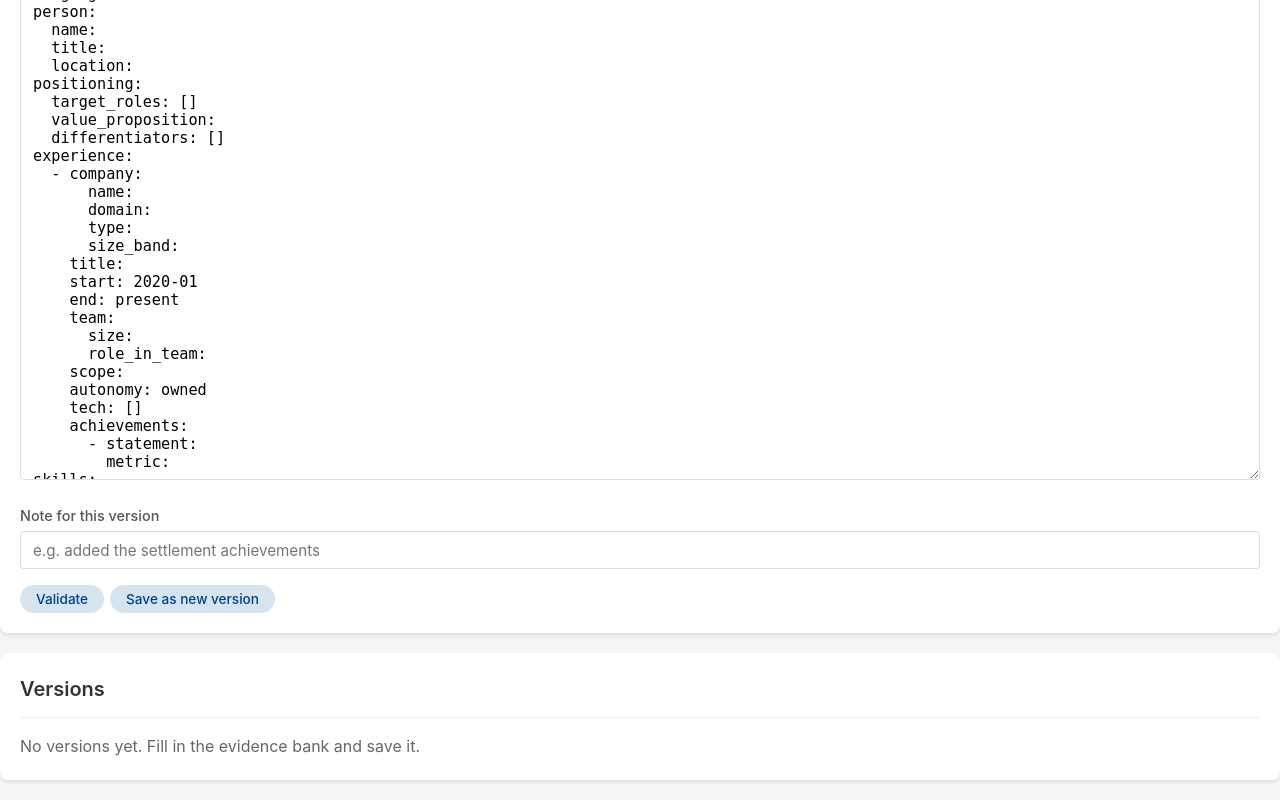
Test case: MasiCv › validates and shows every schema problem with its path
(page scrolled)
Click the button "Validate": x=62, y=599 [20, 585, 104, 613]
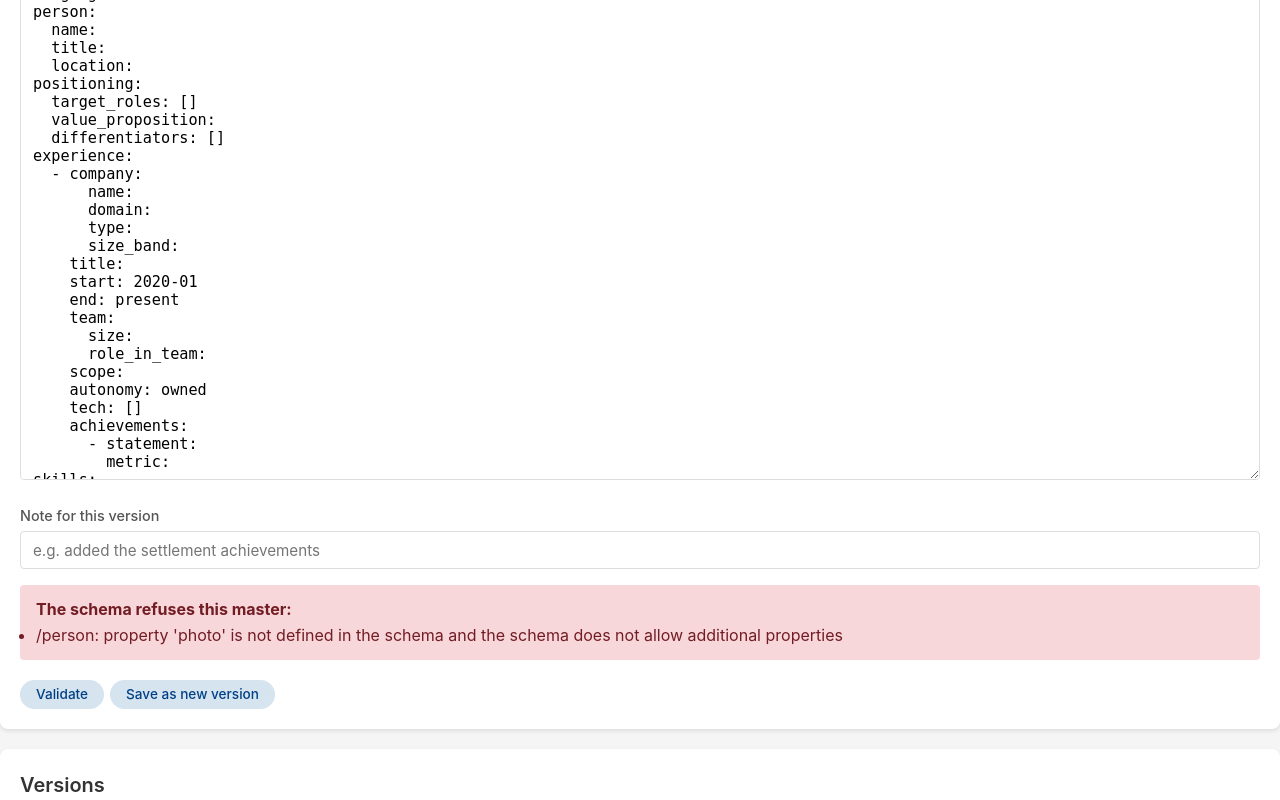
Expected: the message shows "/person: property 'photo' is not defined", [36, 625, 843, 645]
Click the button "Validate": x=62, y=694 [20, 680, 104, 709]
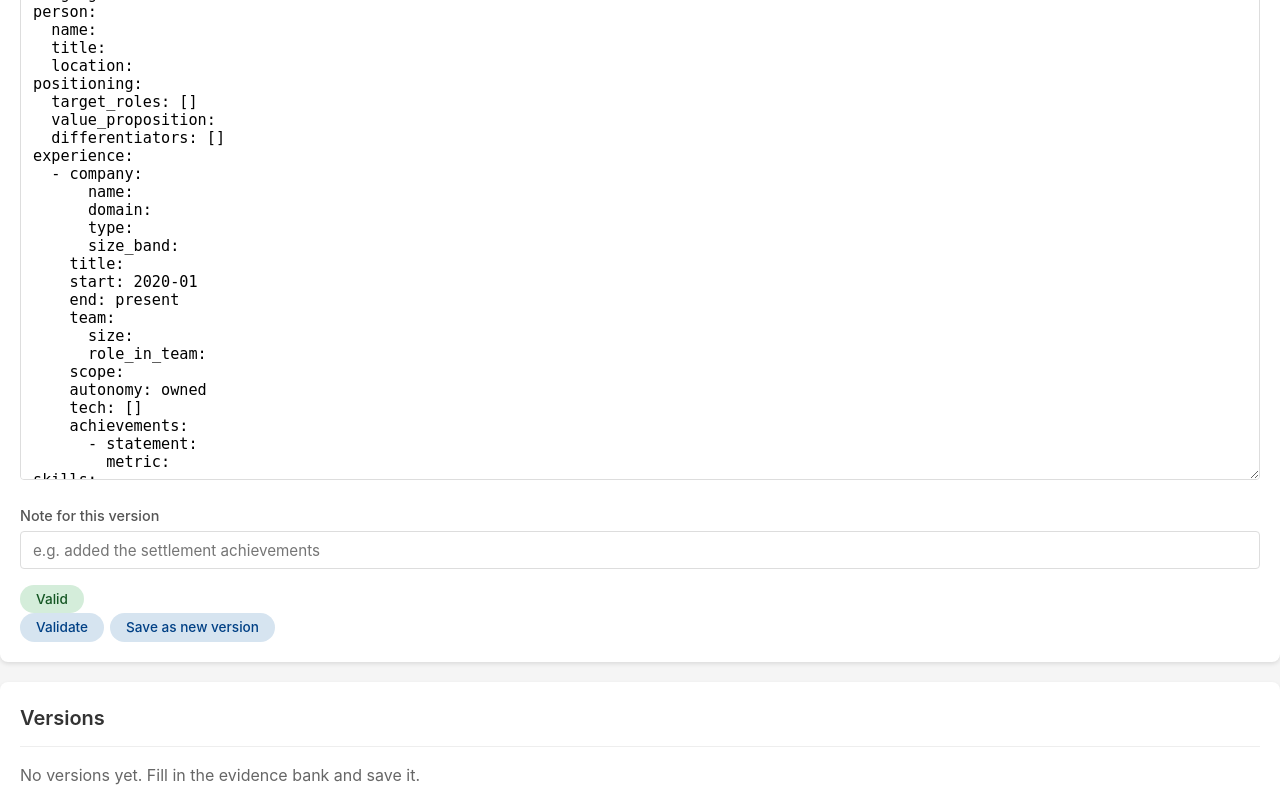
Expected: the text "Valid" is shown, [20, 585, 84, 613]
